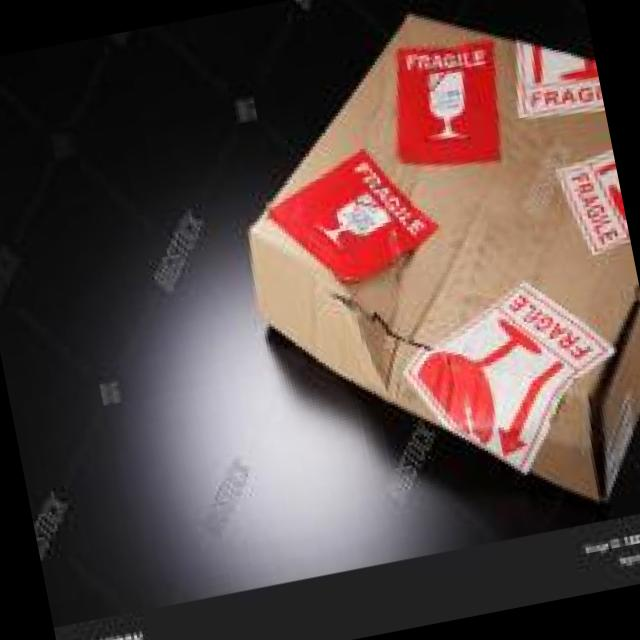box: (154, 0, 640, 640)
